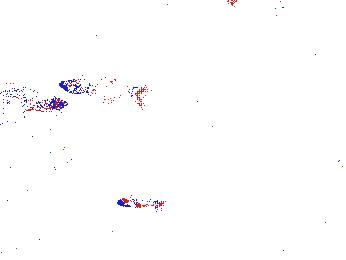X-ray fish: (26, 129, 75, 173)
red belly glassfish: (115, 193, 167, 217), (1, 104, 28, 125)
redtail glassfish: (59, 70, 150, 109), (1, 83, 69, 115)
